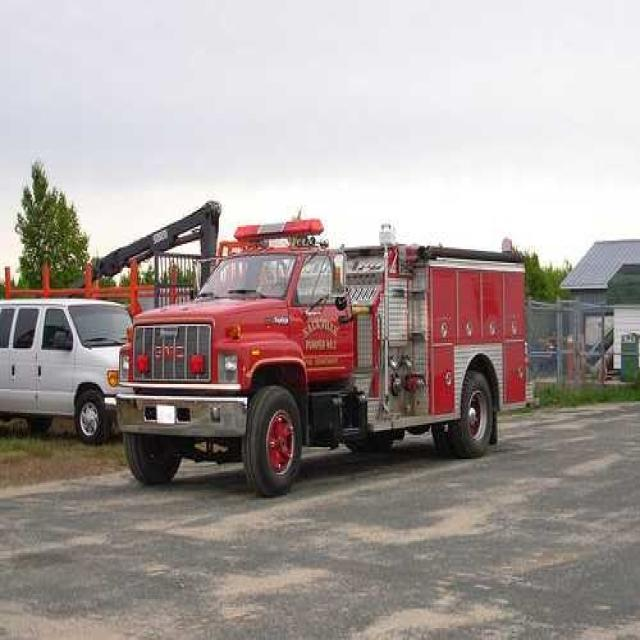ambulance: (118, 222, 529, 502)
